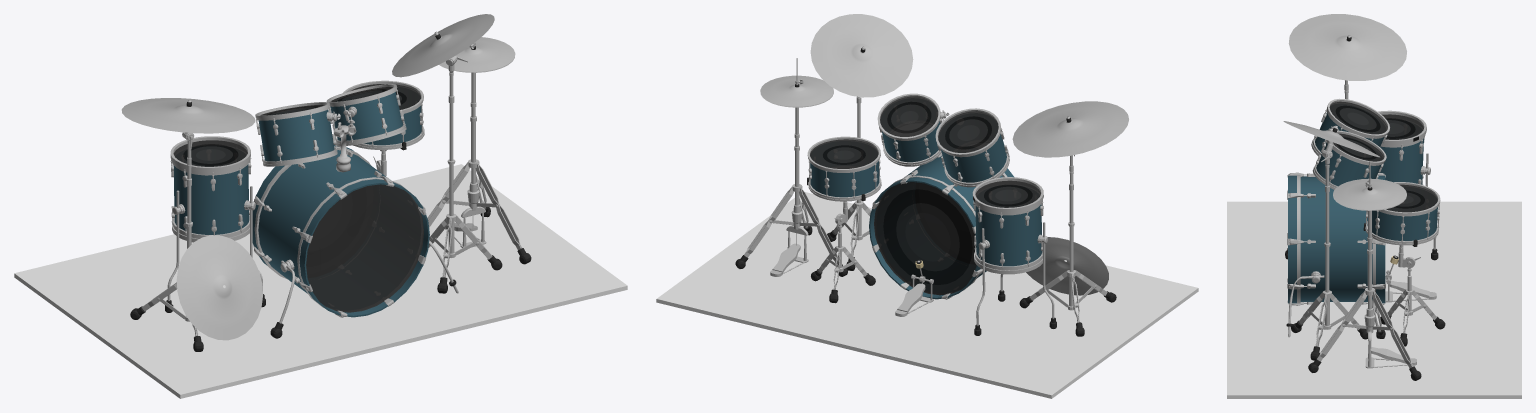
File: Drum_Set.fbx
3 renders of one model, left to right at view 1: azimuth 30°, elevation 25°; view 2: azimuth 150°, elevation 25°; view 3: azimuth 270°, elevation 25°, orthographic. The views are drawn at different scales.
Visible parts, largest first — view 1: Plane.001, Cylinder.002, Circle.009, Cylinder.004, Cylinder, Circle.003, Cylinder.067, Circle.005, Cylinder.003, Circle.006, Cylinder.029, Cylinder.013 (+6 smaller); view 2: Plane.001, Cylinder.002, Circle.005, Cylinder.004, Circle.003, Cylinder, Cylinder.003, Cylinder.067, Circle.009, Circle.006, Cylinder.033, Cylinder.041 (+2 smaller); view 3: Plane.001, Cylinder.002, Circle.003, Cylinder.003, Cylinder.004, Cylinder.067, Cylinder, Circle.006, Cylinder.029, Cylinder.013, Cylinder.041, Cylinder.039 (+11 smaller).
Part boxes in pixels (bbox=[...]): Plane.001: bbox=[14, 164, 627, 398]; Cylinder.002: bbox=[252, 145, 429, 317]; Circle.009: bbox=[176, 235, 262, 340]; Cylinder.004: bbox=[170, 136, 251, 242]; Cylinder: bbox=[255, 102, 337, 166]; Circle.003: bbox=[121, 98, 255, 133]; Cylinder.067: bbox=[326, 84, 406, 145]; Circle.005: bbox=[392, 14, 494, 77]; Cylinder.003: bbox=[343, 80, 424, 149]; Circle.006: bbox=[440, 37, 515, 71]; Cylinder.029: bbox=[446, 64, 456, 257]; Cylinder.013: bbox=[253, 145, 426, 317]; Plane.001: bbox=[656, 192, 1198, 398]; Cylinder.002: bbox=[869, 155, 1014, 299]; Circle.005: bbox=[810, 14, 913, 97]; Cylinder.004: bbox=[972, 177, 1043, 274]; Circle.003: bbox=[1012, 101, 1128, 157]; Cylinder: bbox=[935, 108, 1009, 187]; Cylinder.003: bbox=[807, 136, 881, 201]; Cylinder.067: bbox=[877, 93, 942, 166]; Circle.009: bbox=[1026, 237, 1108, 295]; Circle.006: bbox=[760, 75, 833, 106]; Cylinder.033: bbox=[1067, 155, 1075, 310]; Cylinder.041: bbox=[735, 186, 794, 268]; Plane.001: bbox=[1227, 201, 1521, 398]; Cylinder.002: bbox=[1288, 175, 1385, 303]; Circle.003: bbox=[1288, 14, 1406, 80]; Cylinder.003: bbox=[1365, 182, 1440, 245]; Cylinder.004: bbox=[1378, 110, 1426, 184]; Cylinder.067: bbox=[1312, 130, 1386, 189]; Cylinder: bbox=[1311, 98, 1389, 156]; Circle.006: bbox=[1333, 178, 1406, 209]; Cylinder.029: bbox=[1323, 157, 1331, 329]; Cylinder.013: bbox=[1287, 172, 1385, 305]; Cylinder.041: bbox=[1372, 291, 1421, 380]; Cylinder.039: bbox=[1308, 290, 1367, 372].
Size of the model in its own units: 346 by 190 by 222.
